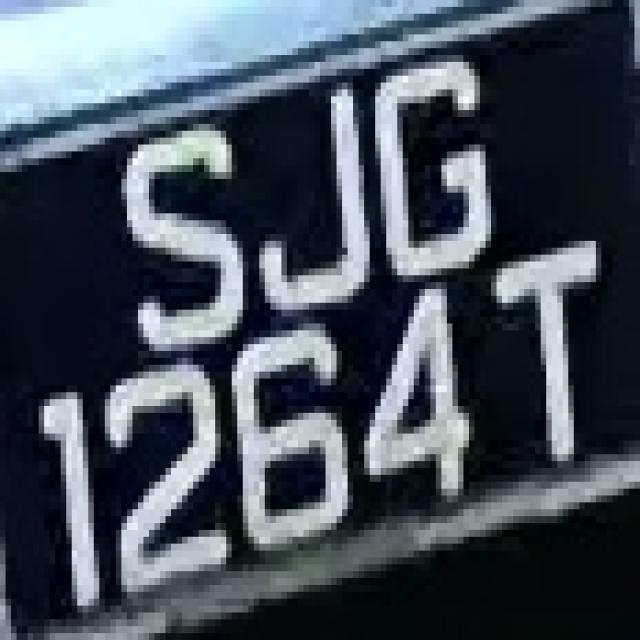1: (33, 386, 121, 626)
2: (94, 358, 248, 599)
4: (342, 282, 486, 523)
6: (220, 310, 358, 564)
G: (370, 41, 502, 303)
J: (237, 69, 370, 330)
S: (88, 103, 254, 351)
T: (474, 241, 624, 488)
